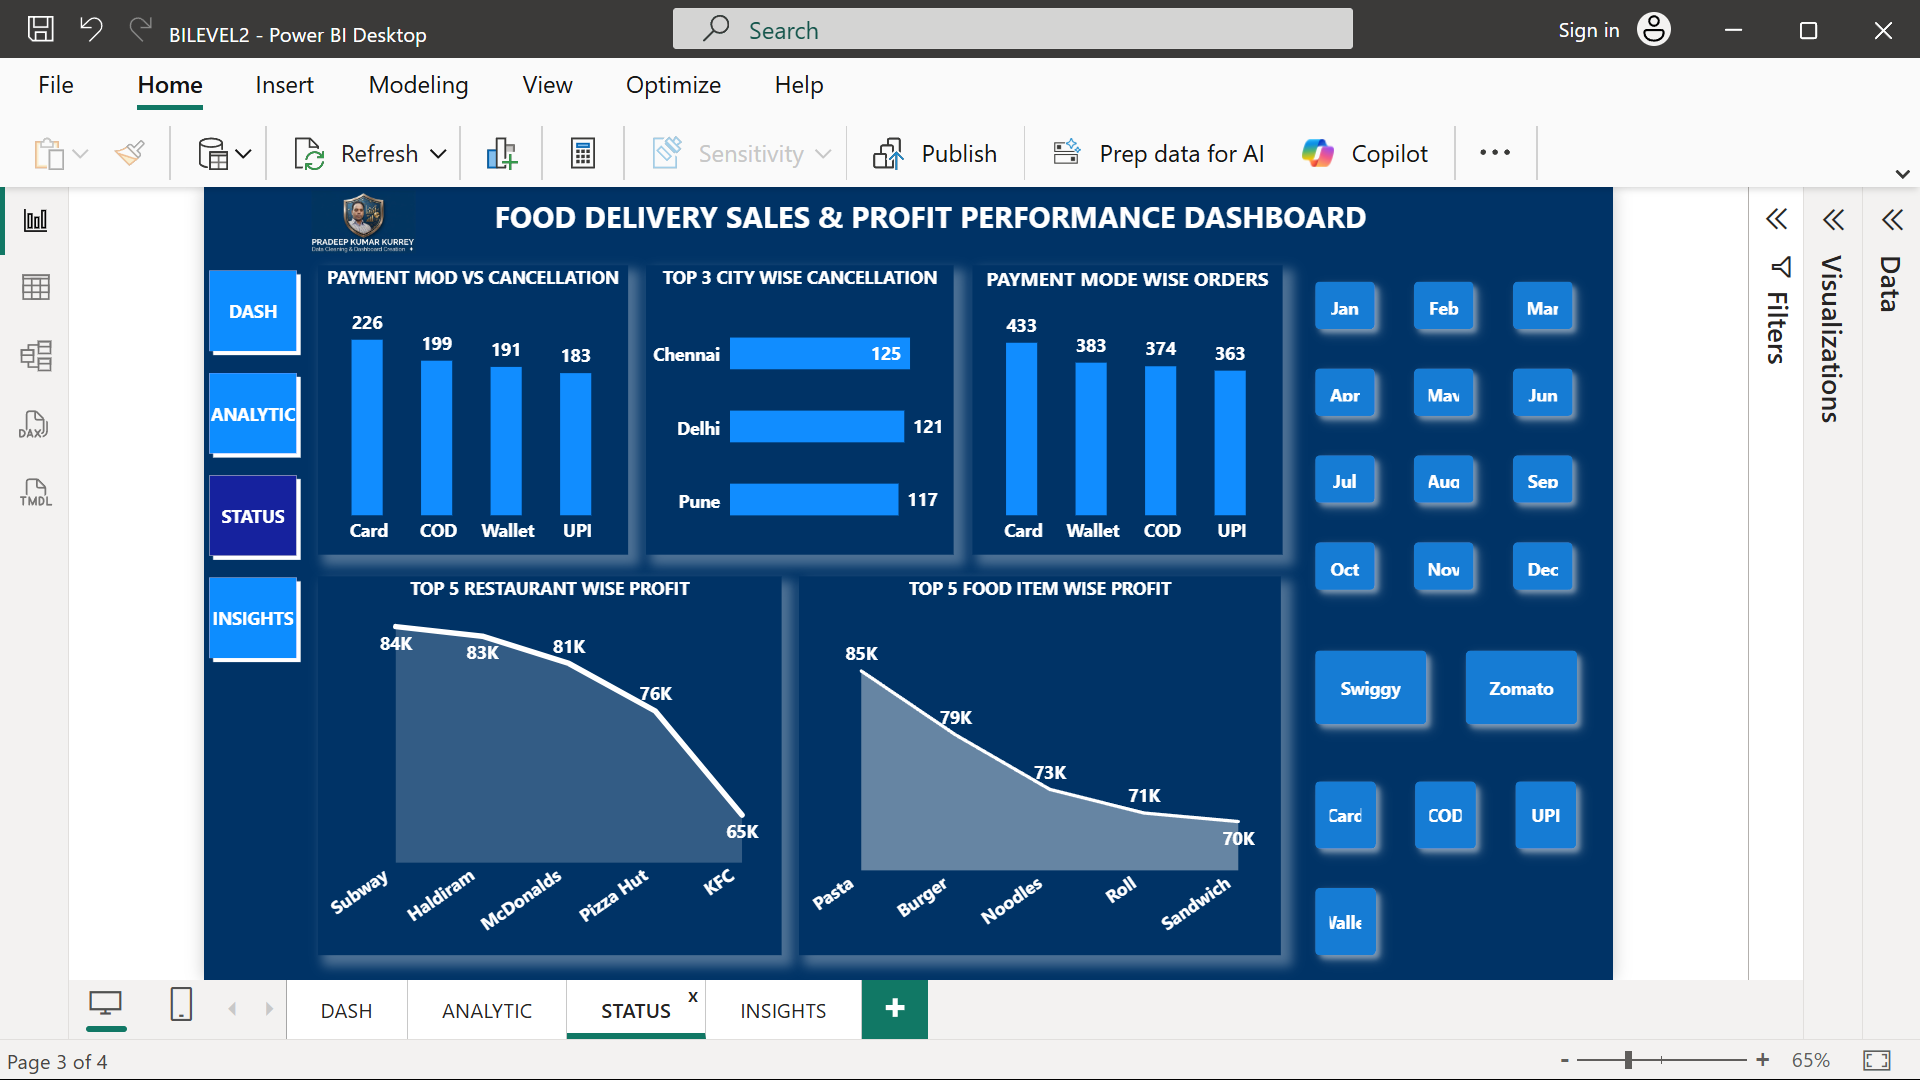

The page's visual inventory and layout, read from the dashboard file:
{"tool":"powerbi","page":{"name":"STATUS","canvas":[1280,720],"ordinal":2},"visuals":[{"type":"pageNavigator","box":[5.5,73.6,81,362.5],"z":0},{"type":"textbox","box":[11,3.7,1258.6,62.6],"z":1000},{"type":"image","box":[53.4,3.7,182.2,57],"z":2000},{"type":"advancedSlicerVisual","fields":{"Values":["DATE TABLE.MONTH"]},"box":[988.1,64.4,277.8,323.8],"z":3000},{"type":"advancedSlicerVisual","fields":{"Values":["Sheet1.PLATFORM"]},"box":[988.5,398.1,280.8,109.6],"z":4000},{"type":"advancedSlicerVisual","fields":{"Values":["Sheet1.PAYMENT MODE"]},"box":[988.1,518.9,281.5,200.6],"z":5000},{"type":"clusteredColumnChart","title":"PAYMENT MOD VS CANCELLATION","fields":{"Category":["Sheet1.PAYMENT MODE"],"Y":["DATE TABLE.CANCEL"]},"box":[103,71.8,281.5,263.1],"z":6000},{"type":"clusteredBarChart","title":"TOP 3 CITY WISE CANCELLATION","fields":{"Category":["Sheet1.CITY"],"Y":["DATE TABLE.CANCEL"]},"box":[401.1,71.8,279.7,263.1],"z":7000},{"type":"clusteredColumnChart","title":"PAYMENT MODE  WISE ORDERS","fields":{"Y":["DATE TABLE.ORDER 2024"],"Category":["Sheet1.PAYMENT MODE"]},"box":[697.4,71.8,281.5,263.1],"z":8000},{"type":"areaChart","title":"TOP 5 RESTAURANT  WISE PROFIT","fields":{"Category":["Sheet1.RESTAURANT"],"Y":["DATE TABLE.PROFIT 2024"]},"box":[103,353.3,421.4,344.1],"z":9000},{"type":"areaChart","title":"TOP 5 FOOD ITEM WISE PROFIT","fields":{"Category":["Sheet1.FOOD ITEM"],"Y":["DATE TABLE.PROFIT 2024"]},"box":[541,353.3,437.9,344.1],"z":10000}]}

Visuals, with their boxes on the page's 1280x720 design canvas (x1, y1, x2, y2). These are canvas units, not pixel positions in the 1920x1080 screenshot, which may show the page scaled, cropped or inside an application window:
pageNavigator: bbox=[6, 74, 86, 436]
textbox: bbox=[11, 4, 1270, 66]
image: bbox=[53, 4, 236, 61]
advancedSlicerVisual - DATE TABLE.MONTH: bbox=[988, 64, 1266, 388]
advancedSlicerVisual - Sheet1.PLATFORM: bbox=[988, 398, 1269, 508]
advancedSlicerVisual - Sheet1.PAYMENT MODE: bbox=[988, 519, 1270, 720]
"PAYMENT MOD VS CANCELLATION" clusteredColumnChart: bbox=[103, 72, 384, 335]
"TOP 3 CITY WISE CANCELLATION" clusteredBarChart: bbox=[401, 72, 681, 335]
"PAYMENT MODE  WISE ORDERS" clusteredColumnChart: bbox=[697, 72, 979, 335]
"TOP 5 RESTAURANT  WISE PROFIT" areaChart: bbox=[103, 353, 524, 697]
"TOP 5 FOOD ITEM WISE PROFIT" areaChart: bbox=[541, 353, 979, 697]
